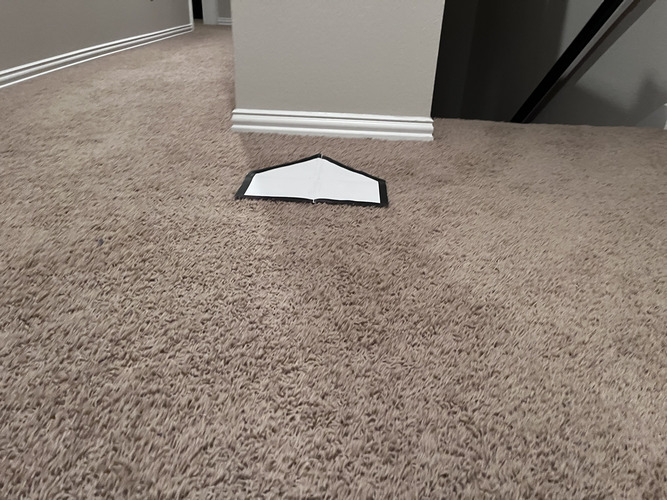homeplate: (234, 154, 388, 208)
